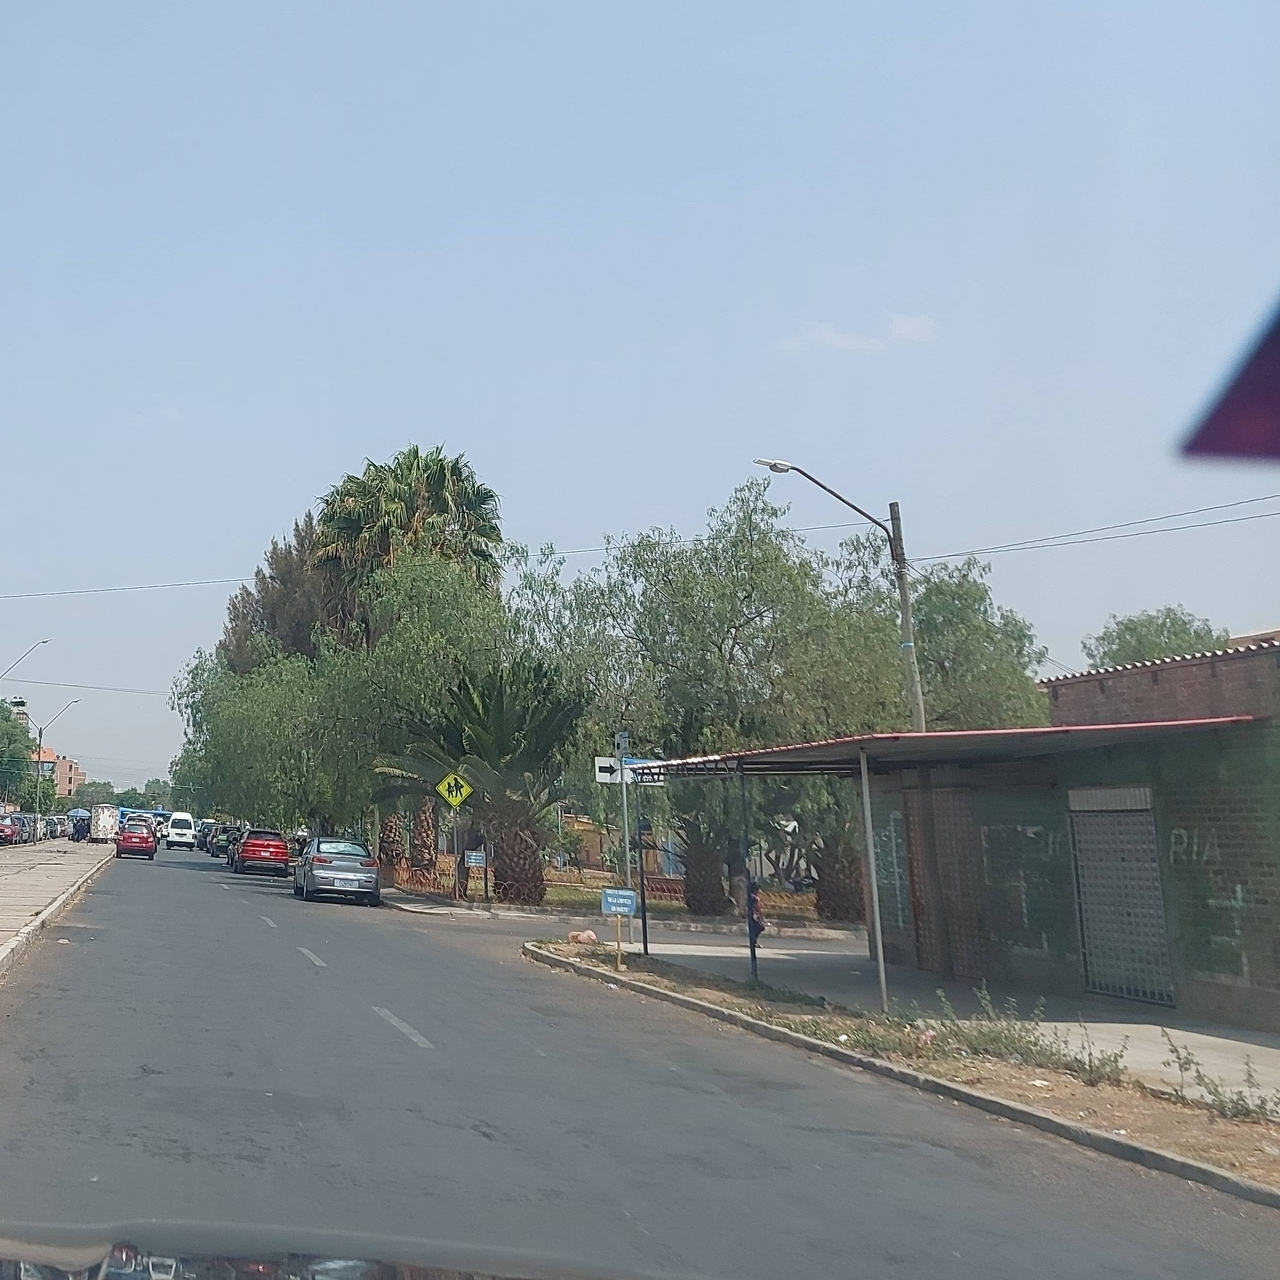zona-escolar: (437, 770, 476, 804)
